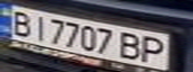0: (78, 22, 100, 52)
7: (93, 26, 118, 56), (42, 16, 66, 45), (60, 19, 81, 48)
B: (115, 30, 148, 61), (3, 7, 36, 37)
I: (27, 12, 51, 41)
P: (136, 34, 172, 64)
